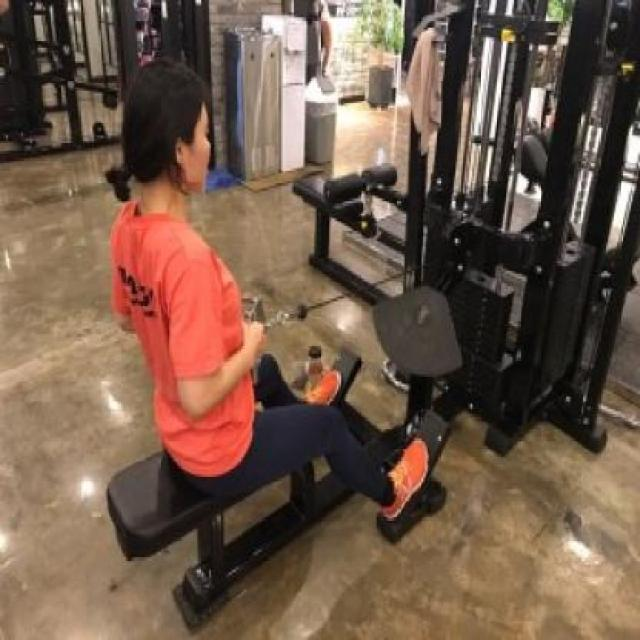Seated Cable Rows: (100, 0, 620, 640)
